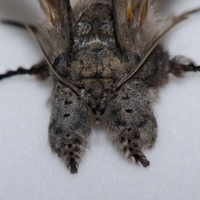insect: (0, 0, 173, 170)
